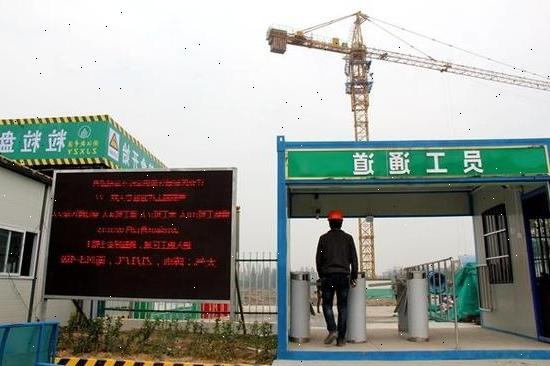helmet: (327, 210, 344, 222)
no_wear: (320, 232, 352, 277)
